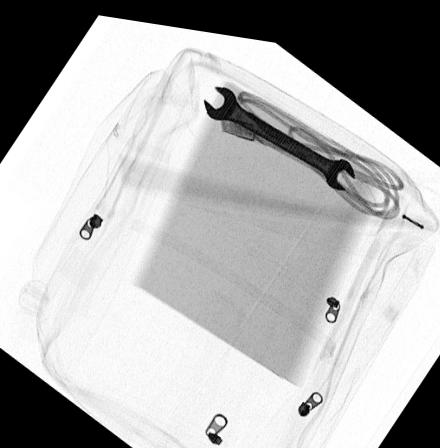Wrench: (202, 78, 354, 181)
